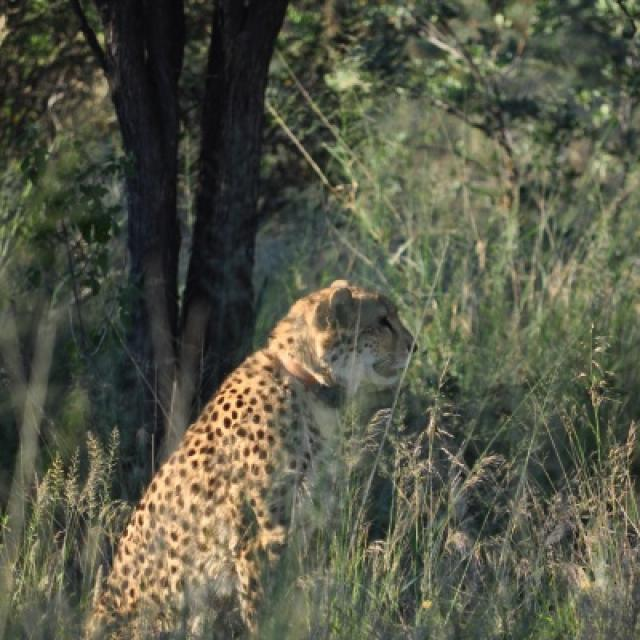Cheetah: (89, 282, 428, 638)
